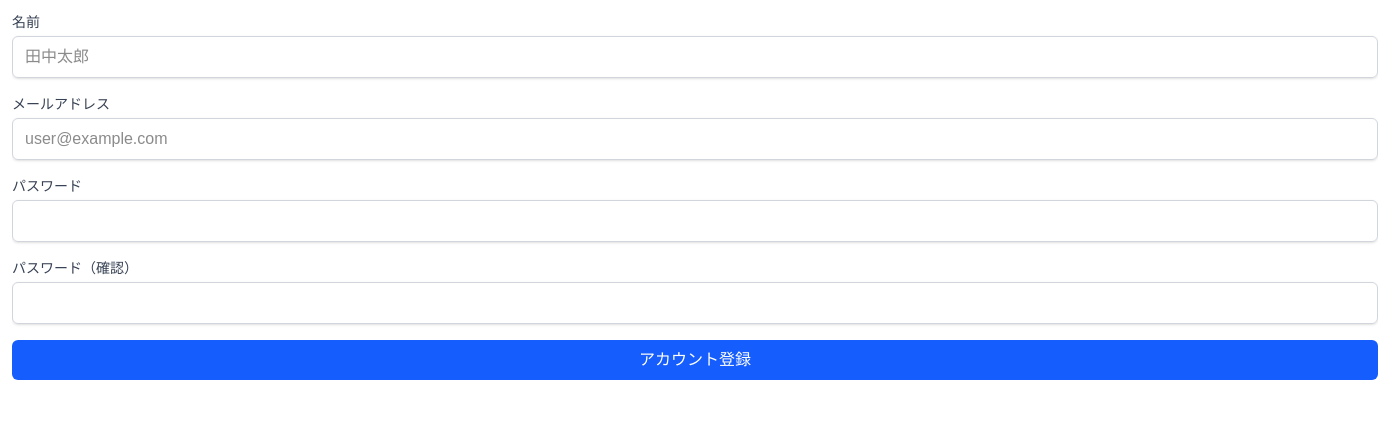
Test: RegisterForm › パスワードが8文字未満でバリデーションエラーが表示される
The width and height of the screenshot is (1390, 425).
In the field labelled "名前": (695, 57) [12,36,1378,78], type "テスト"
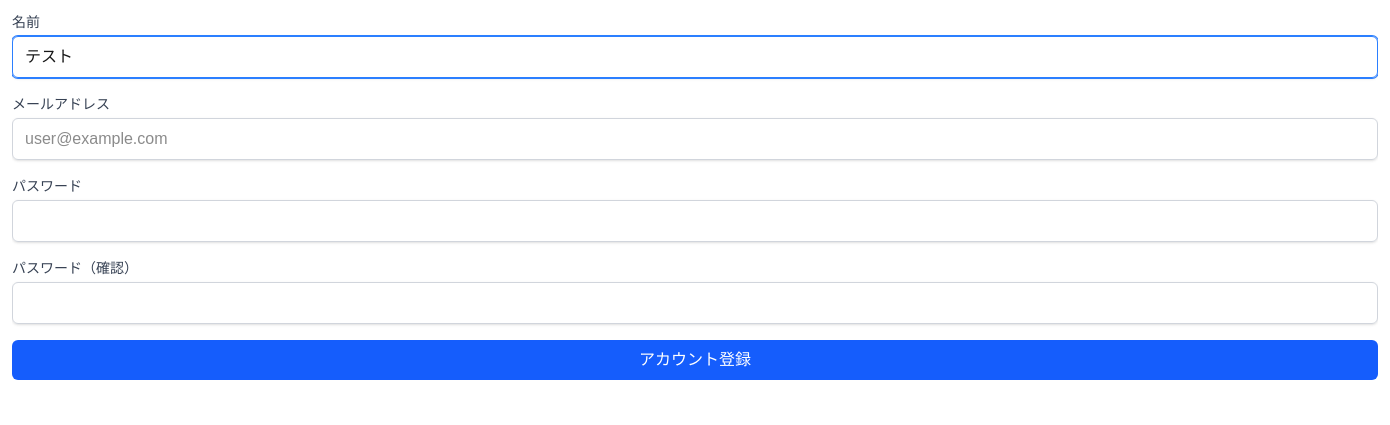
In the field labelled "メールアドレス": (695, 139) [12,118,1378,160], type "test@example.com"
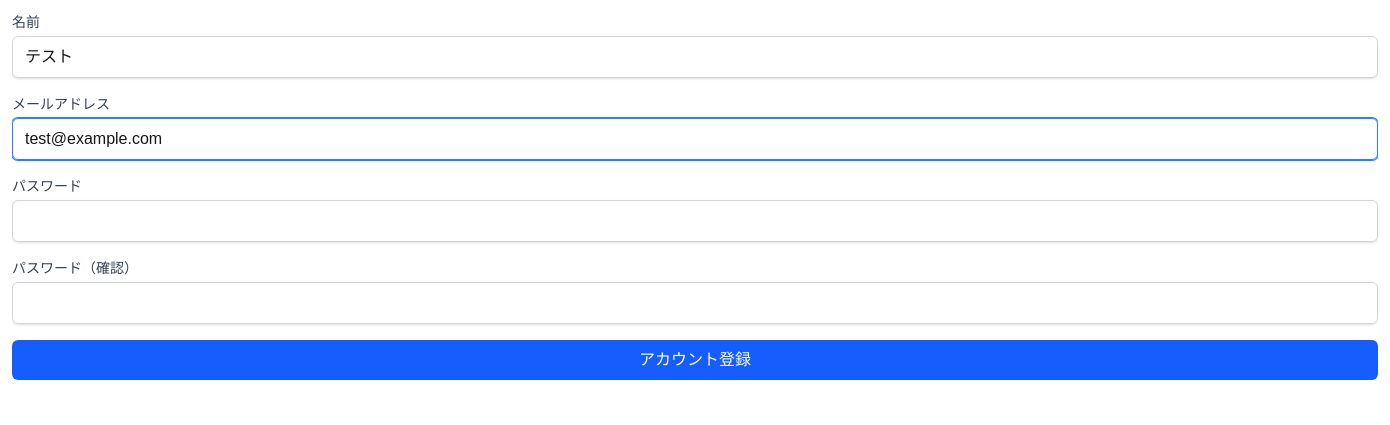
In the password field labelled "パスワード": (695, 221) [12,200,1378,242], type "short"
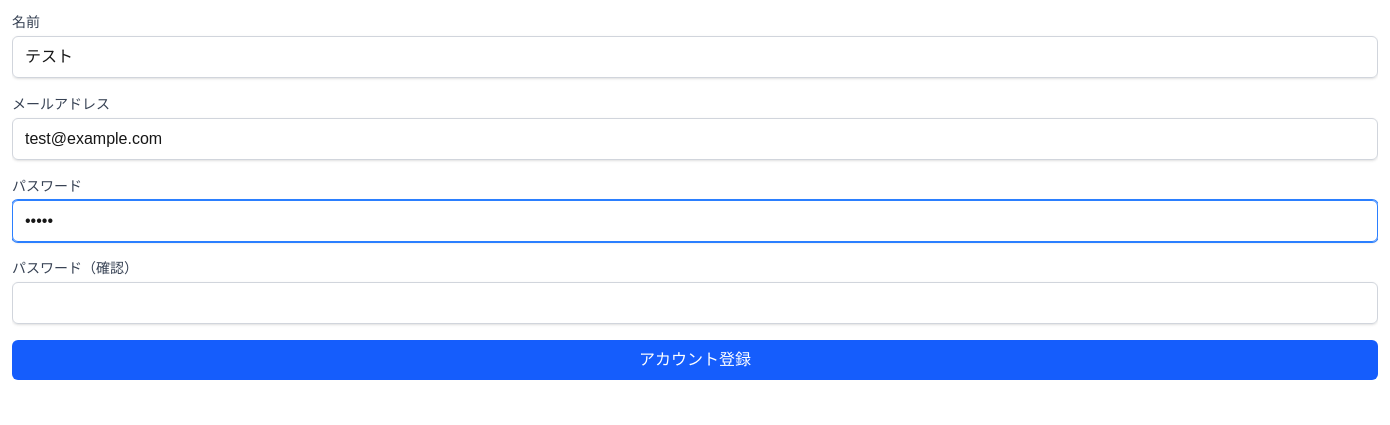
In the password field labelled "パスワード（確認）": (695, 303) [12,282,1378,324], type "short"
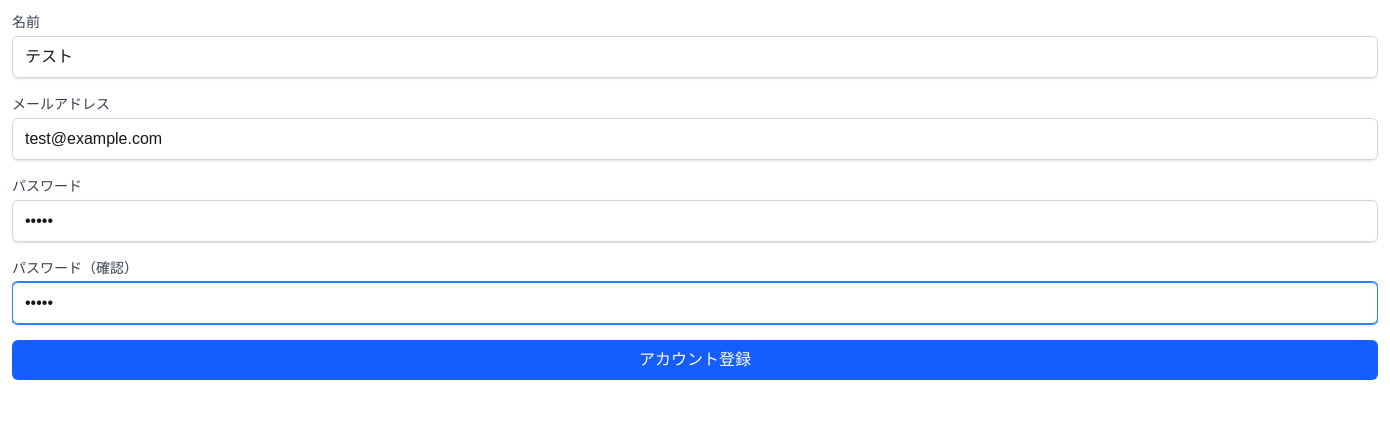
Click the button "アカウント登録": click(695, 360) [12,340,1378,380]
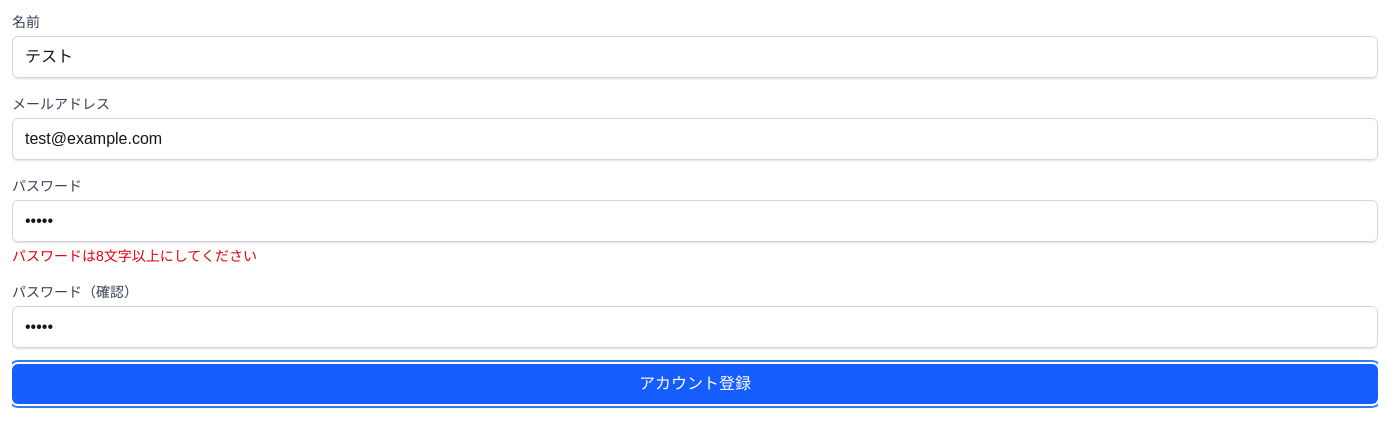
Expected: the text "パスワードは8文字以上にしてください" is shown, [12,248,257,264]
